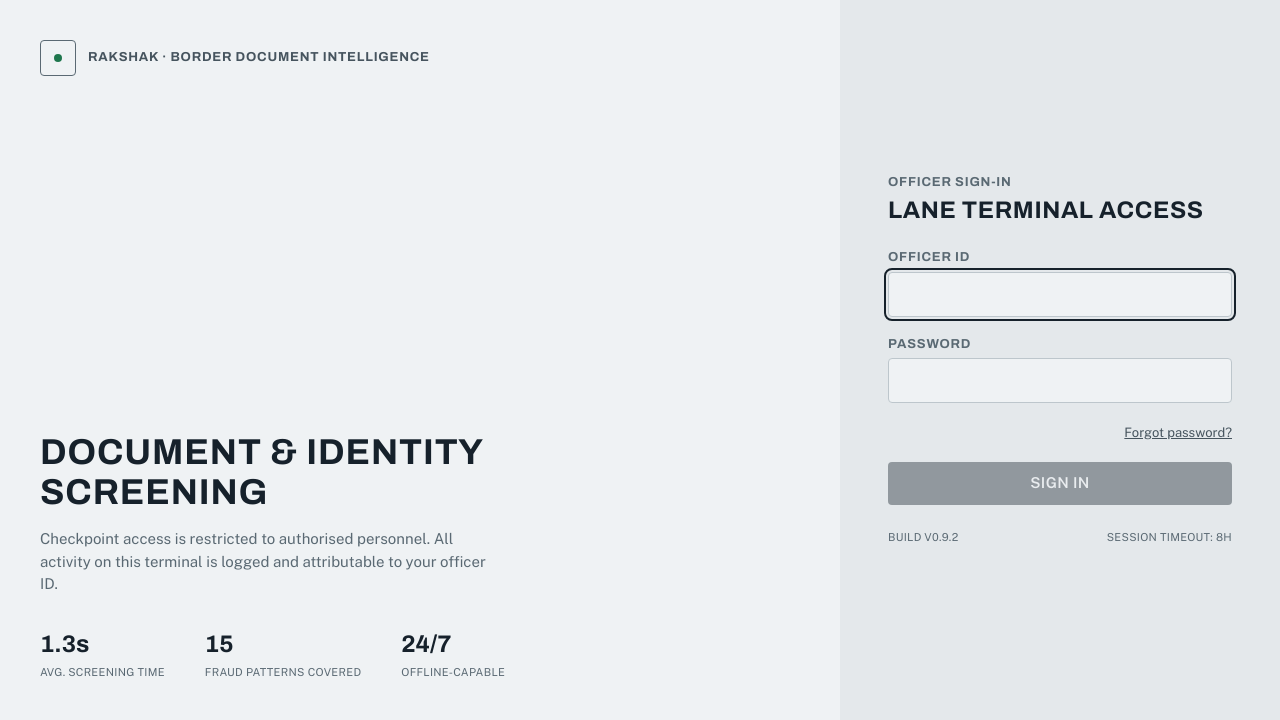
AppShell auth guard › successful login navigates to the real entry screen and populates authStore
Type "OFF-2291" into the field labelled "Officer ID".
click(1060, 294); type("OFF-2291")  # box [888,272,1232,316]
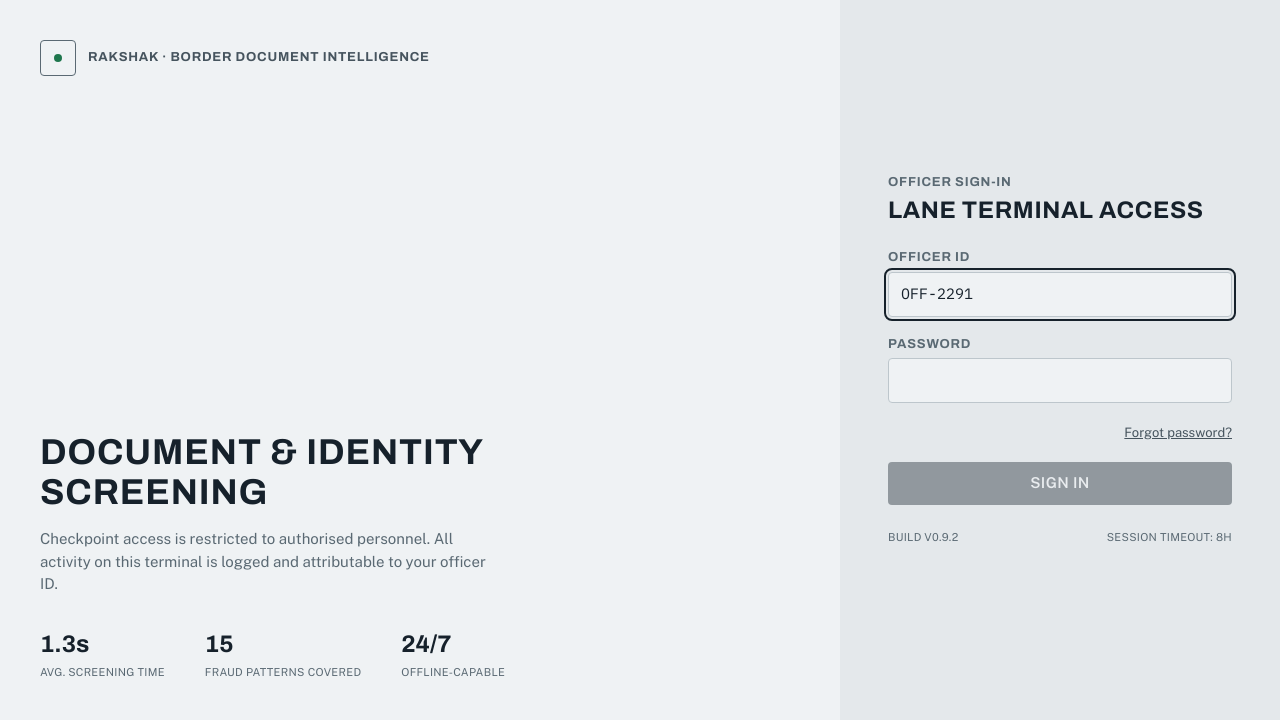
Type "dev-password-2291" into the password field labelled "Password".
click(1060, 380); type("dev-password-2291")  # box [888,358,1232,403]
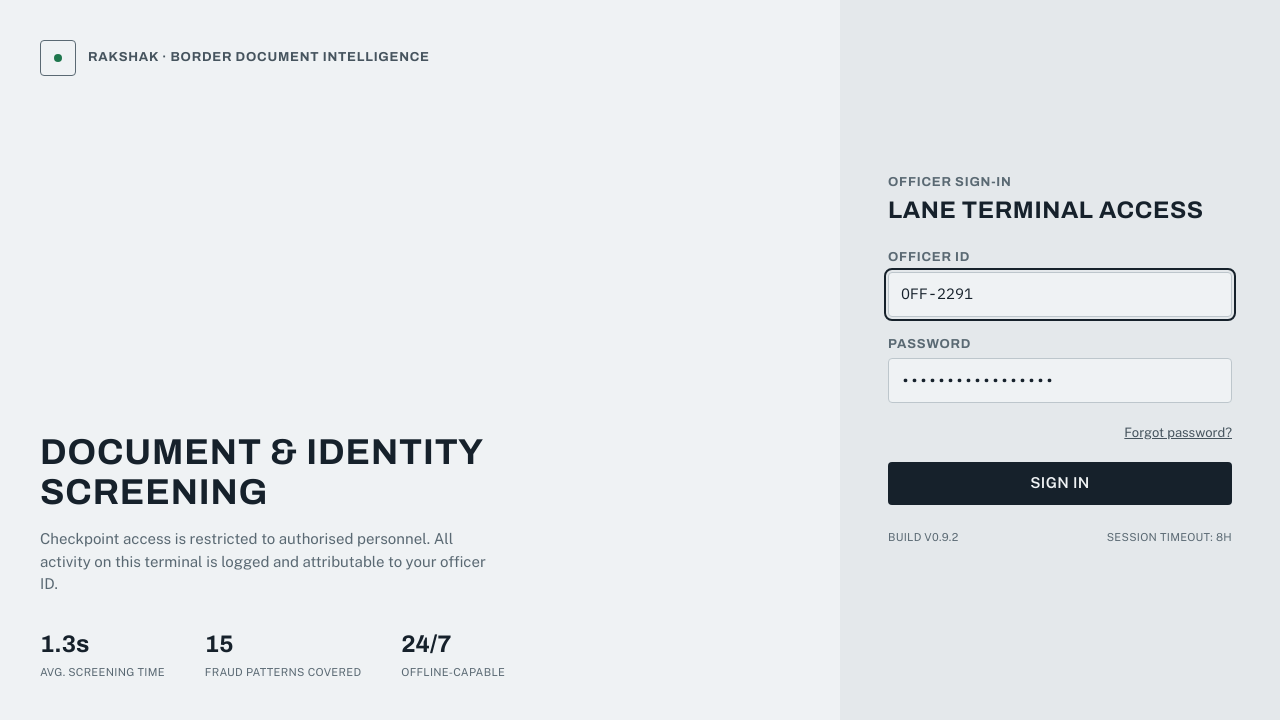
Click the button "Sign in".
click(1060, 483)  # box [888,462,1232,505]
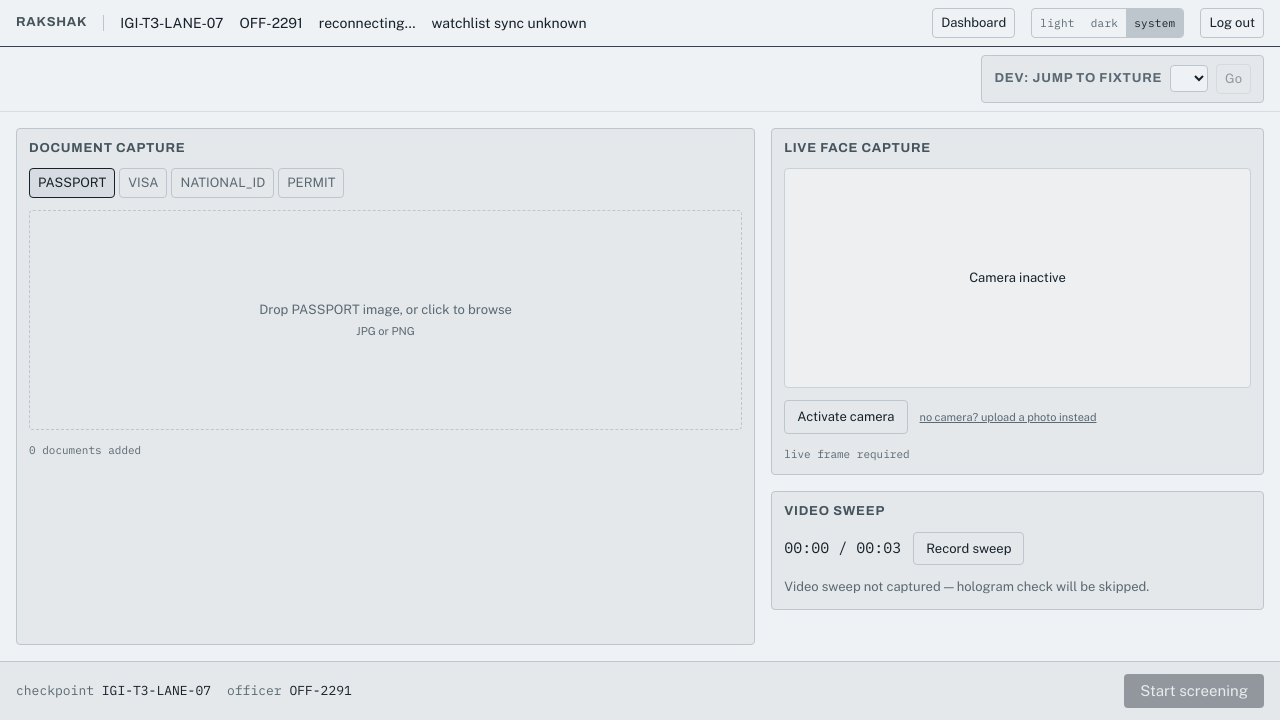
Expected: the button "Start screening" is shown, [1124,674,1264,708]
